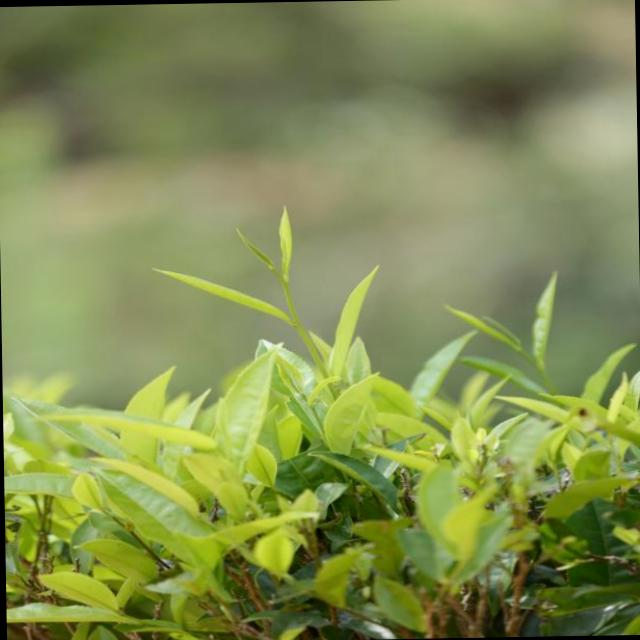Stem: (282, 282, 287, 289)
